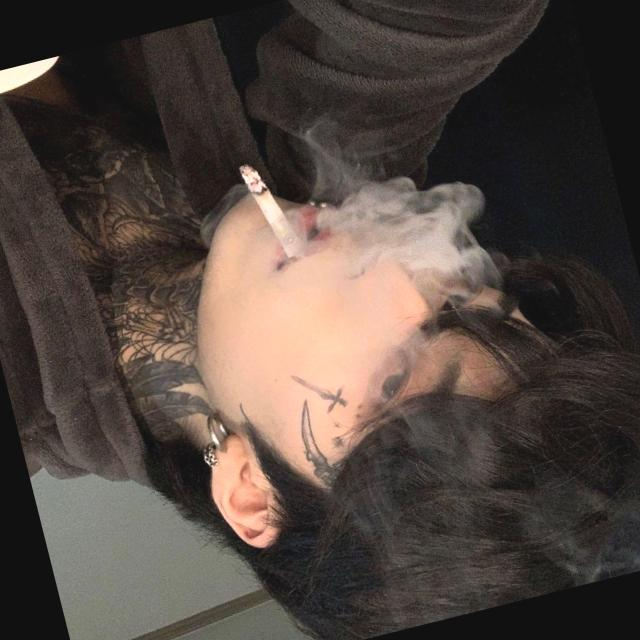smoke: (236, 142, 306, 284)
